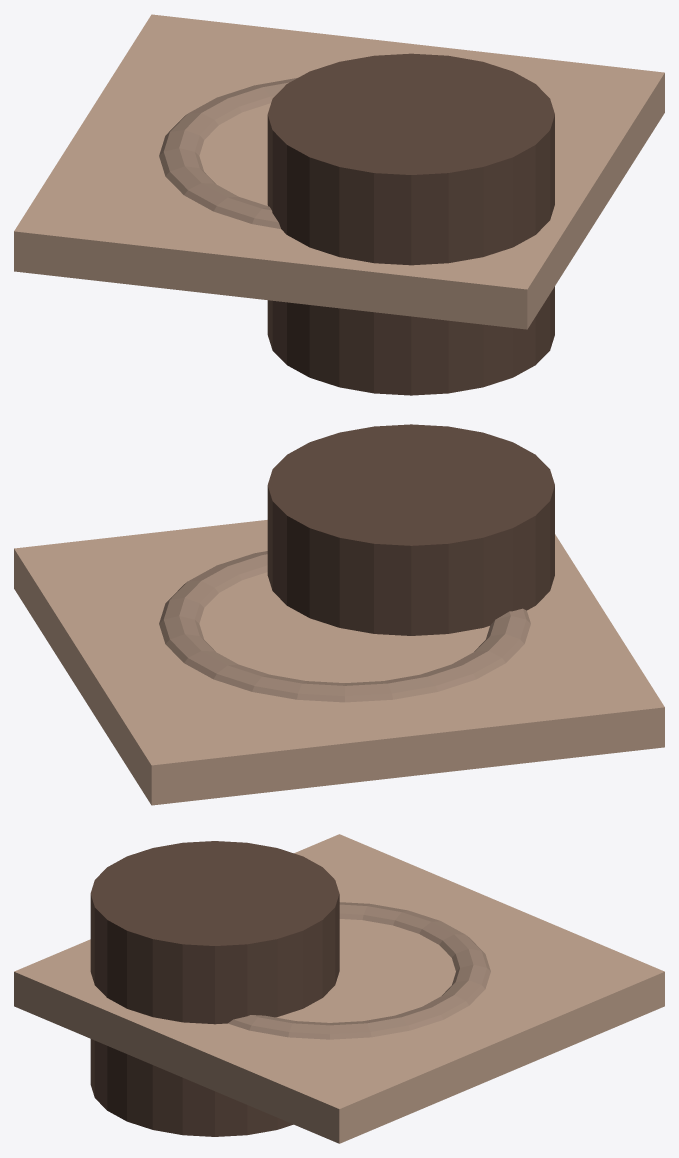
The model's file is hole.glb.
3 views of the same model, one above another, from view 1: azimuth 30°, elevation 25°; view 2: azimuth 150°, elevation 25°; view 3: azimuth 270°, elevation 25° (orthographic). The views are drawn at different scales.
Parts seen in each view (by area): view 1: HoleSlot; view 2: HoleSlot; view 3: HoleSlot.
Part boxes in pixels (x1=…): HoleSlot: x1=14, y1=14, x2=664, y2=395; HoleSlot: x1=14, y1=424, x2=664, y2=805; HoleSlot: x1=14, y1=834, x2=664, y2=1143.
Size of the model in its own units: 0.68 by 0.22 by 0.68.
